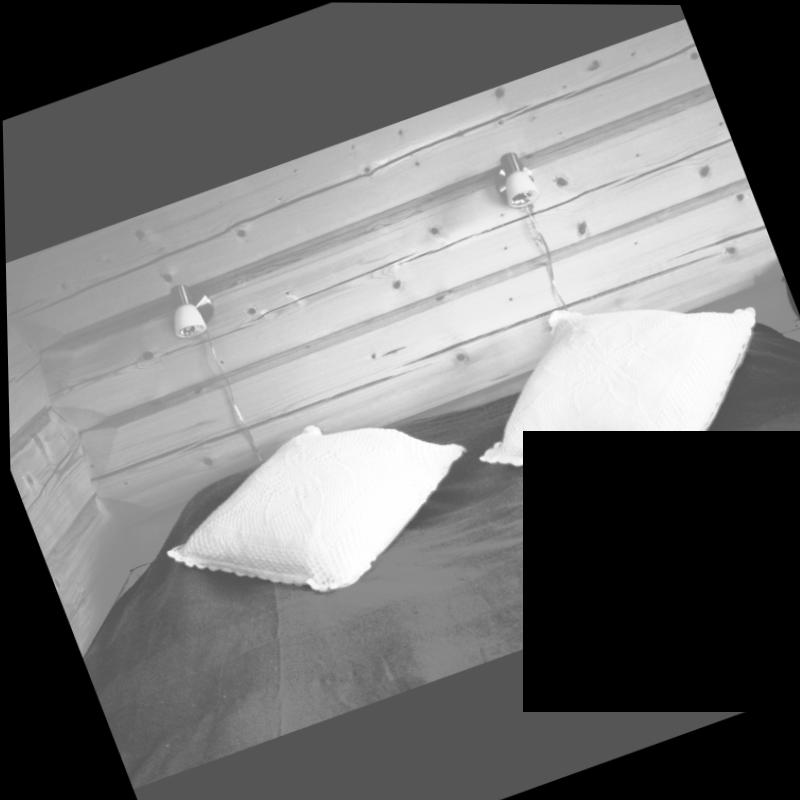pillow: (434, 239, 800, 535), (137, 378, 494, 638)
